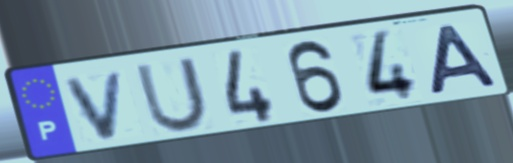4: (362, 27, 422, 107), (222, 46, 279, 126)
6: (284, 39, 347, 116)
A: (428, 21, 504, 98)
U: (132, 54, 212, 135)
V: (61, 67, 128, 143)
